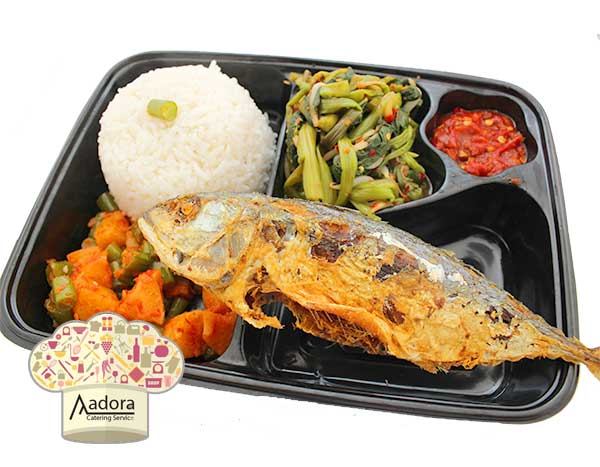buah_sayur_lainnya: (310, 84, 396, 193)
buah_sayur_vitA: (73, 229, 141, 313), (448, 115, 508, 162)
daging: (261, 223, 382, 313)
makanan_berpati: (122, 84, 220, 172)
